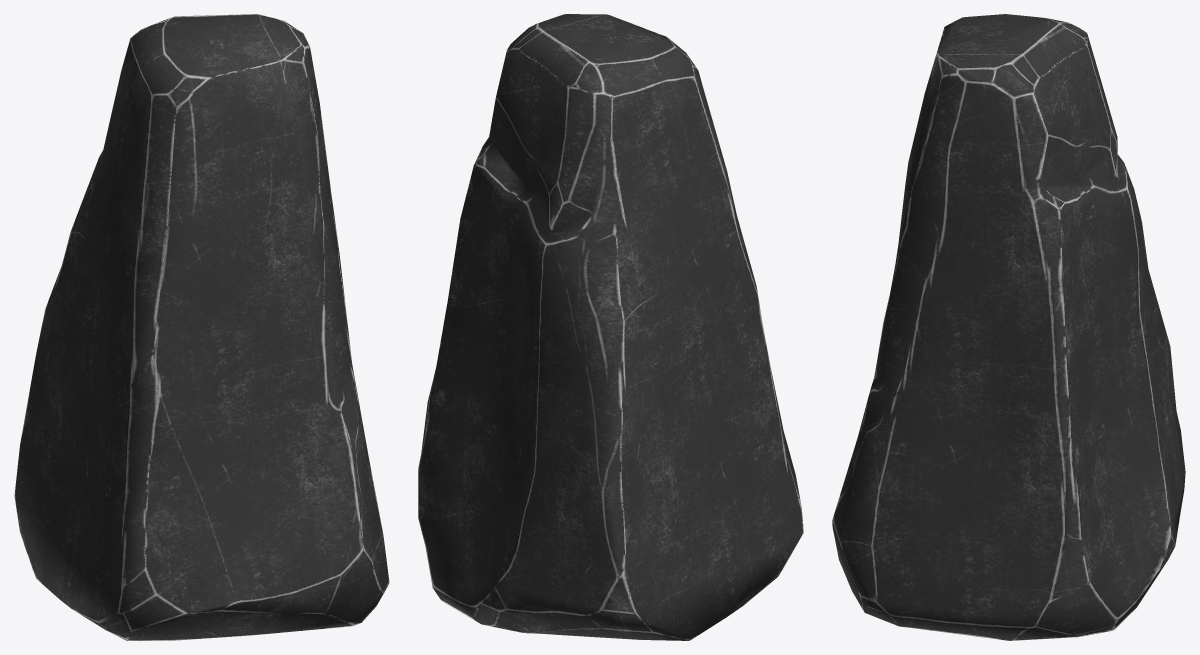
File: Big-stone.glb
3 renders of one model, left to right at view 1: azimuth 30°, elevation 25°; view 2: azimuth 150°, elevation 25°; view 3: azimuth 270°, elevation 25°, orthographic.
Visible parts, largest first — view 1: Rock_Boulder_10_4; view 2: Rock_Boulder_10_4; view 3: Rock_Boulder_10_4.
Part boxes in pixels (<box>): Rock_Boulder_10_4: <box>14,14,389,640</box>; Rock_Boulder_10_4: <box>418,14,803,640</box>; Rock_Boulder_10_4: <box>832,14,1185,640</box>.
Size of the model in its own units: 0.8796 by 1.52 by 0.8814.
1 material, 1 textured.
